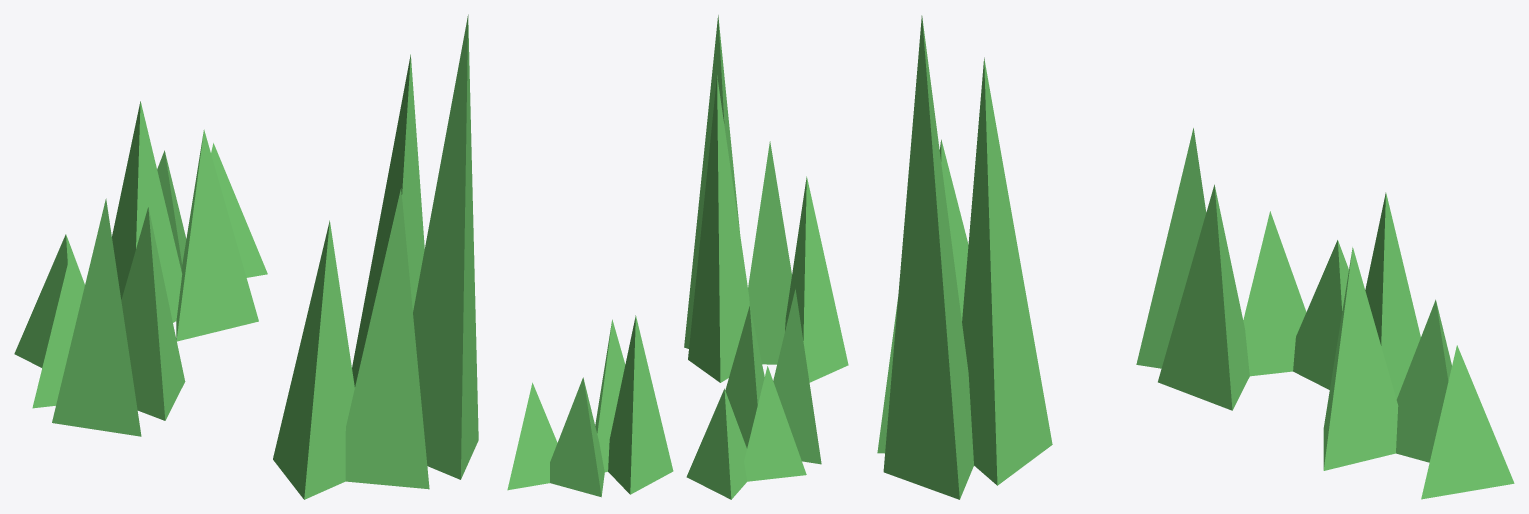
Rendered from Grass_1.fbx.
3 renders of one model, left to right at view 1: azimuth 30°, elevation 25°; view 2: azimuth 150°, elevation 25°; view 3: azimuth 270°, elevation 25°, orthographic. The views are drawn at different scales.
Visible parts, largest first — view 1: Cone.014; view 2: Cone.014; view 3: Cone.014.
Part boxes in pixels (left/top/right/bottom): Cone.014: left=14, top=14, right=478, bottom=499; Cone.014: left=507, top=15, right=848, bottom=499; Cone.014: left=877, top=15, right=1514, bottom=499.
Bounding box in the file's own units: 46.14 × 76.68 × 62.6.
